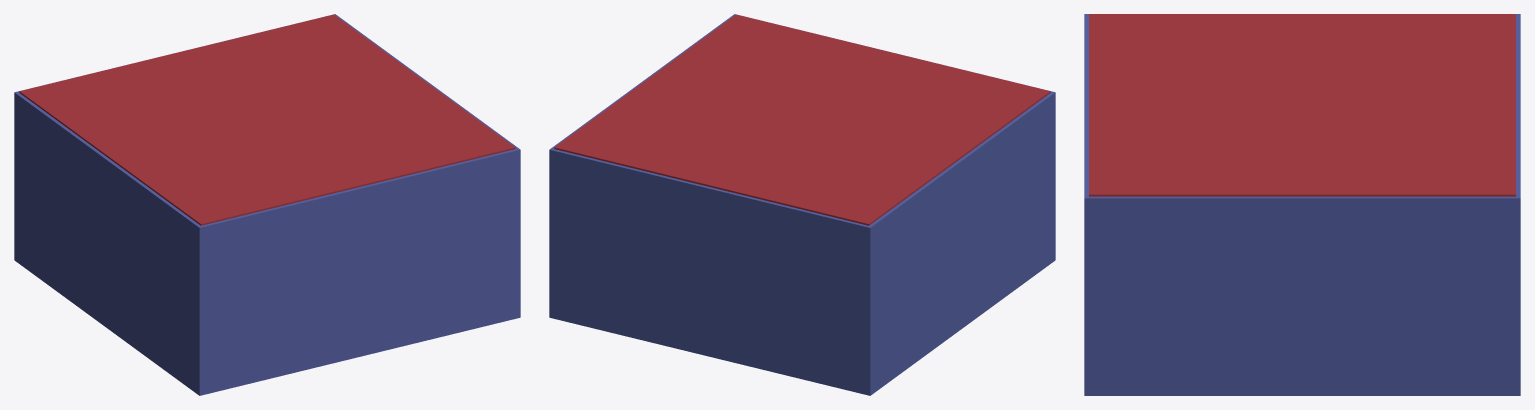
Rendered from SM_Platform_2x2_01.fbx.
The picture shows the model from 3 angles, left to right: view 1: azimuth 30°, elevation 25°; view 2: azimuth 150°, elevation 25°; view 3: azimuth 270°, elevation 25°; orthographic projection. The views are drawn at different scales.
Visible parts, largest first — view 1: SM_Platform_2x2_01; view 2: SM_Platform_2x2_01; view 3: SM_Platform_2x2_01.
Part boxes in pixels (x1,y1,x2,y2): SM_Platform_2x2_01: (14, 14, 520, 395); SM_Platform_2x2_01: (549, 14, 1055, 395); SM_Platform_2x2_01: (1084, 14, 1520, 395).
Bounding box in the file's own units: 200 × 101 × 200.
